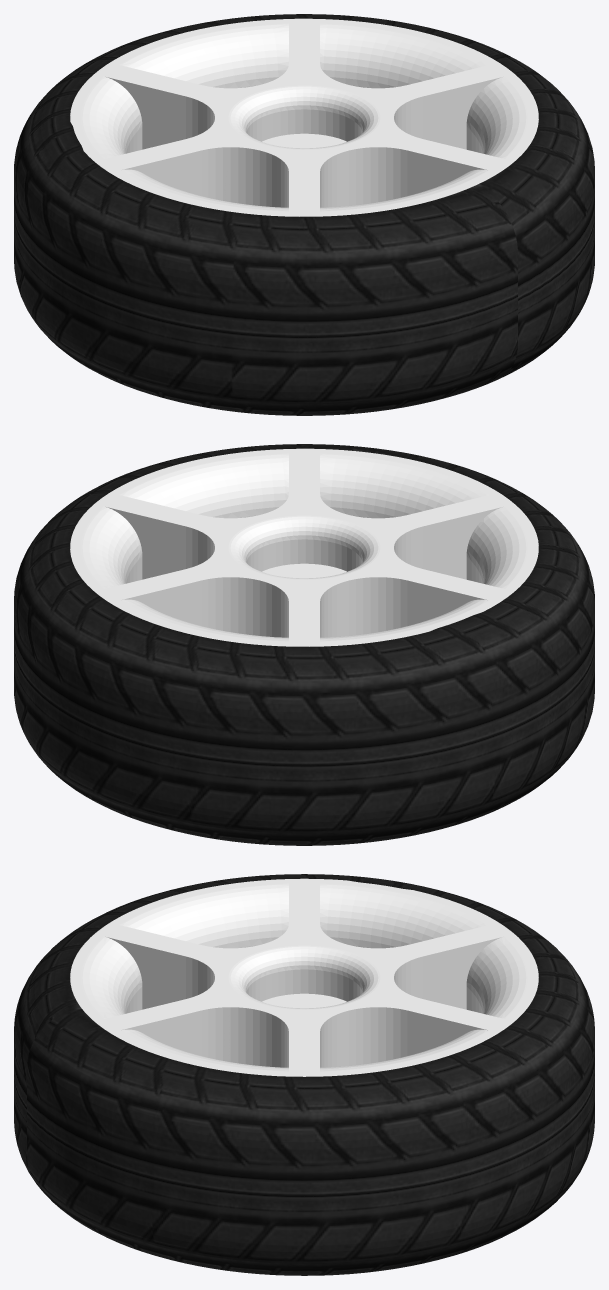
The model's file is tire.dae.
The picture shows the model from 3 angles, top to bottom: view 1: azimuth 30°, elevation 25°; view 2: azimuth 150°, elevation 25°; view 3: azimuth 270°, elevation 25°; orthographic projection.
Visible parts, largest first — view 1: タイヤ; view 2: タイヤ; view 3: タイヤ.
Boxes of the visible parts, x1=… form: タイヤ: x1=14, y1=14, x2=594, y2=415; タイヤ: x1=14, y1=444, x2=594, y2=845; タイヤ: x1=14, y1=874, x2=594, y2=1275.
Size of the model in its own units: 6.5 by 6.5 by 2.4.
1 material, 1 textured.
